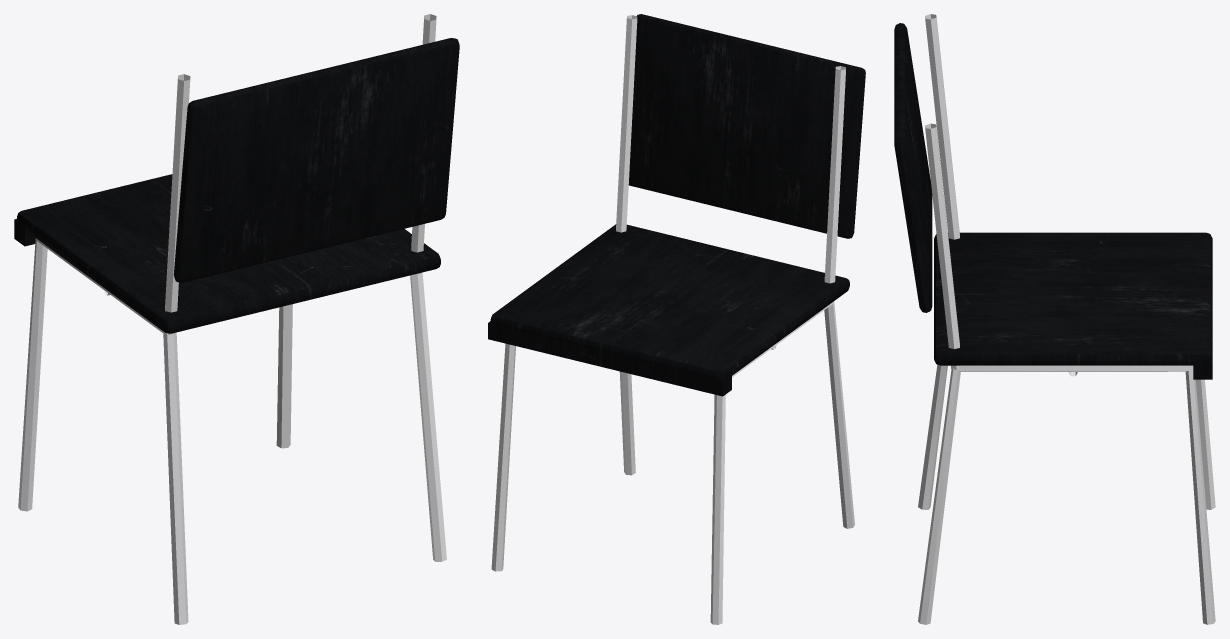
File: chair_stacking.gltf
3 views of the same model, side by side, from view 1: azimuth 30°, elevation 25°; view 2: azimuth 150°, elevation 25°; view 3: azimuth 270°, elevation 25° (orthographic). The views are drawn at different scales.
Parts seen in each view (by area): view 1: chair_stacking; view 2: chair_stacking; view 3: chair_stacking.
Boxes of the visible parts, bbox=[...] form: chair_stacking: bbox=[14, 14, 459, 624]; chair_stacking: bbox=[488, 14, 865, 624]; chair_stacking: bbox=[894, 14, 1215, 624].
Bounding box in the file's own units: 0.45 × 0.8419 × 0.496.
Materials: 2 (1 with a texture image).
